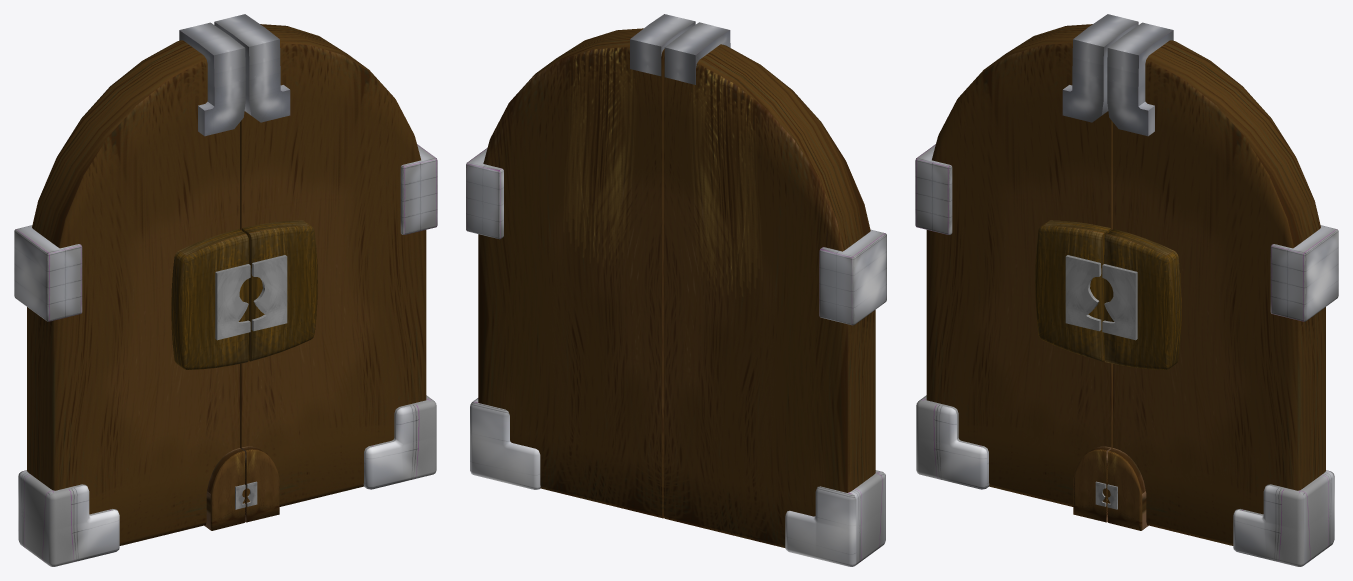
File: puerta.FBX
The picture shows the model from 3 angles, left to right: view 1: azimuth 30°, elevation 25°; view 2: azimuth 150°, elevation 25°; view 3: azimuth 330°, elevation 25°; orthographic projection.
Parts seen in each view (by area): view 1: Group001, ChamferBox001, ChamferBox006, ChamferBox010, ChamferBox003, Hedra001, ChamferBox013, Hedra006, ChamferBox011, Hedra007, Hedra003; view 2: Group001, ChamferBox006, ChamferBox003, ChamferBox013, ChamferBox011, Hedra001, Hedra006; view 3: Group001, ChamferBox010, ChamferBox013, ChamferBox001, ChamferBox011, Hedra006, ChamferBox006, Hedra001, ChamferBox003, Hedra003, Hedra007.
Part boxes in pixels (left/top/right/bottom): Group001: left=27, top=24, right=426, bottom=545; ChamferBox001: left=171, top=229, right=248, bottom=369; ChamferBox006: left=18, top=470, right=119, bottom=566; ChamferBox010: left=242, top=220, right=317, bottom=361; ChamferBox003: left=14, top=225, right=82, bottom=321; Hedra001: left=179, top=22, right=245, bottom=136; ChamferBox013: left=363, top=395, right=436, bottom=489; Hedra006: left=214, top=14, right=290, bottom=122; ChamferBox011: left=400, top=144, right=437, bottom=234; Hedra007: left=251, top=255, right=287, bottom=331; Hedra003: left=215, top=264, right=250, bottom=340; Group001: left=478, top=28, right=875, bottom=548; ChamferBox006: left=785, top=470, right=885, bottom=566; ChamferBox003: left=819, top=229, right=886, bottom=325; ChamferBox013: left=470, top=398, right=540, bottom=489; ChamferBox011: left=466, top=148, right=503, bottom=239; Hedra001: left=664, top=22, right=730, bottom=84; Hedra006: left=630, top=14, right=695, bottom=76; Group001: left=926, top=24, right=1325, bottom=545; ChamferBox010: left=1104, top=229, right=1181, bottom=369; ChamferBox013: left=1233, top=470, right=1334, bottom=566; ChamferBox001: left=1035, top=220, right=1110, bottom=361; ChamferBox011: left=1270, top=225, right=1338, bottom=321; Hedra006: left=1107, top=22, right=1173, bottom=136; ChamferBox006: left=916, top=395, right=989, bottom=489; Hedra001: left=1062, top=14, right=1138, bottom=122; ChamferBox003: left=915, top=144, right=952, bottom=234; Hedra003: left=1065, top=255, right=1101, bottom=331; Hedra007: left=1102, top=264, right=1137, bottom=340.
Bounding box in the file's own units: 146 × 171 × 28.07.
